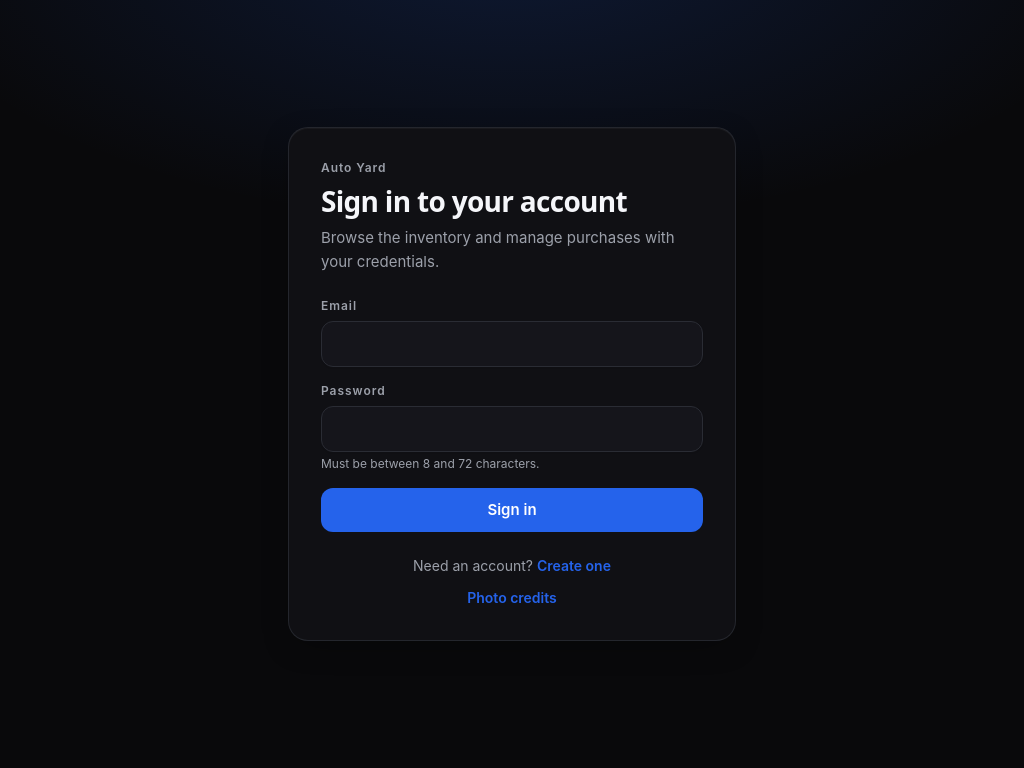
Test: LoginPage › shows server error on invalid credentials
Type "user@example.com" into the field labelled "Email". click: (512, 344)
box: [321,321,703,367]
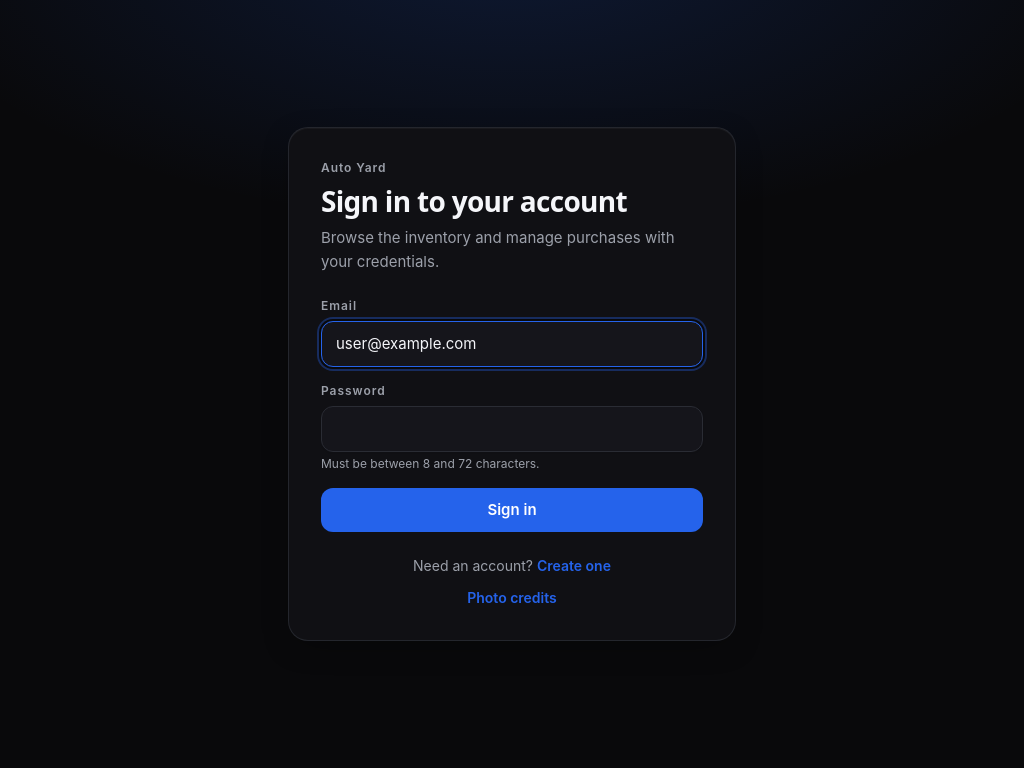
Type "wrongpassword" into the password field labelled "Password". click: (512, 429)
box: [321,406,703,452]
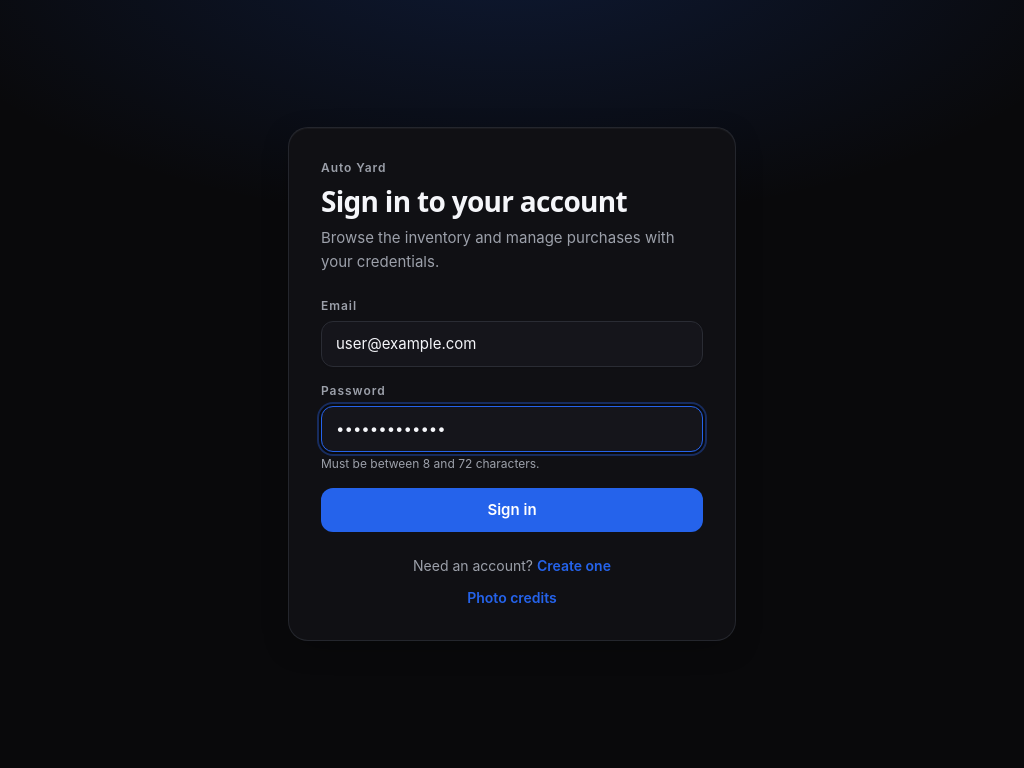
Click the button "Sign in". click: (512, 510)
box: [321,488,703,532]
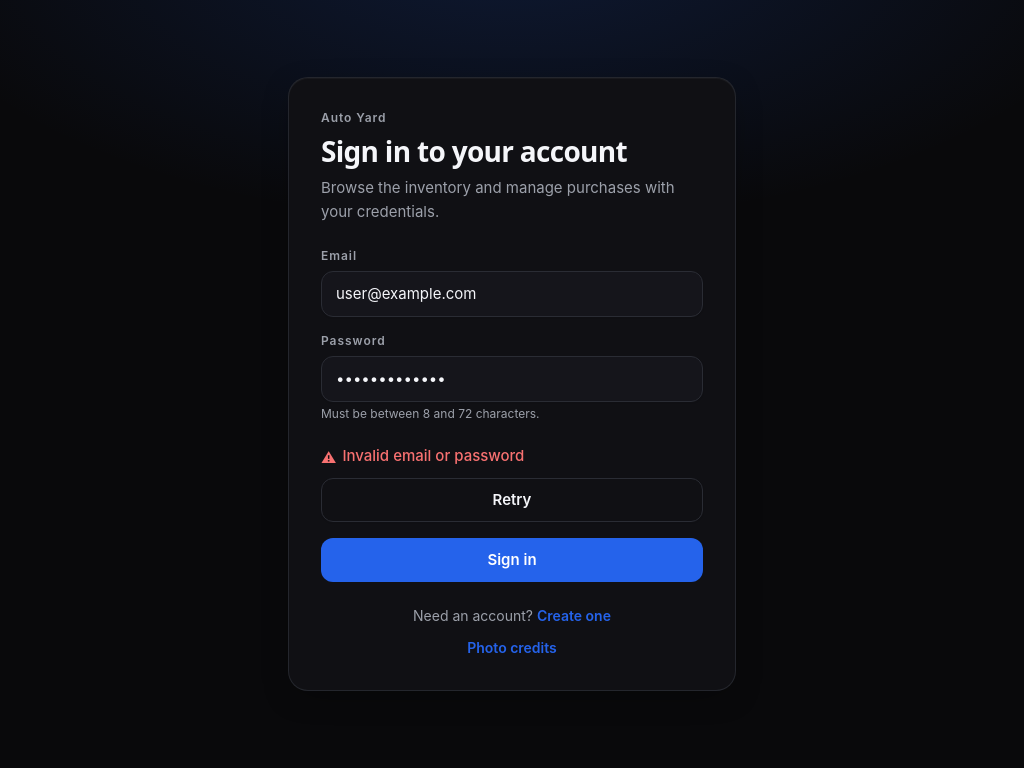
Now the text "Invalid email or password" is shown, box [342,444,524,468]
